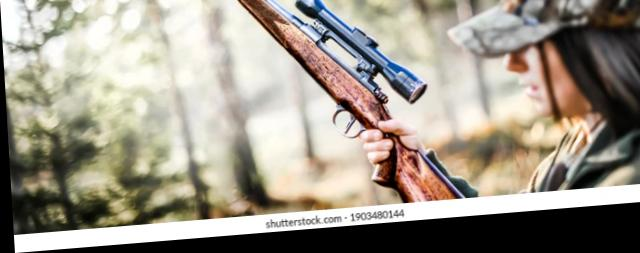other: (487, 0, 640, 206)
